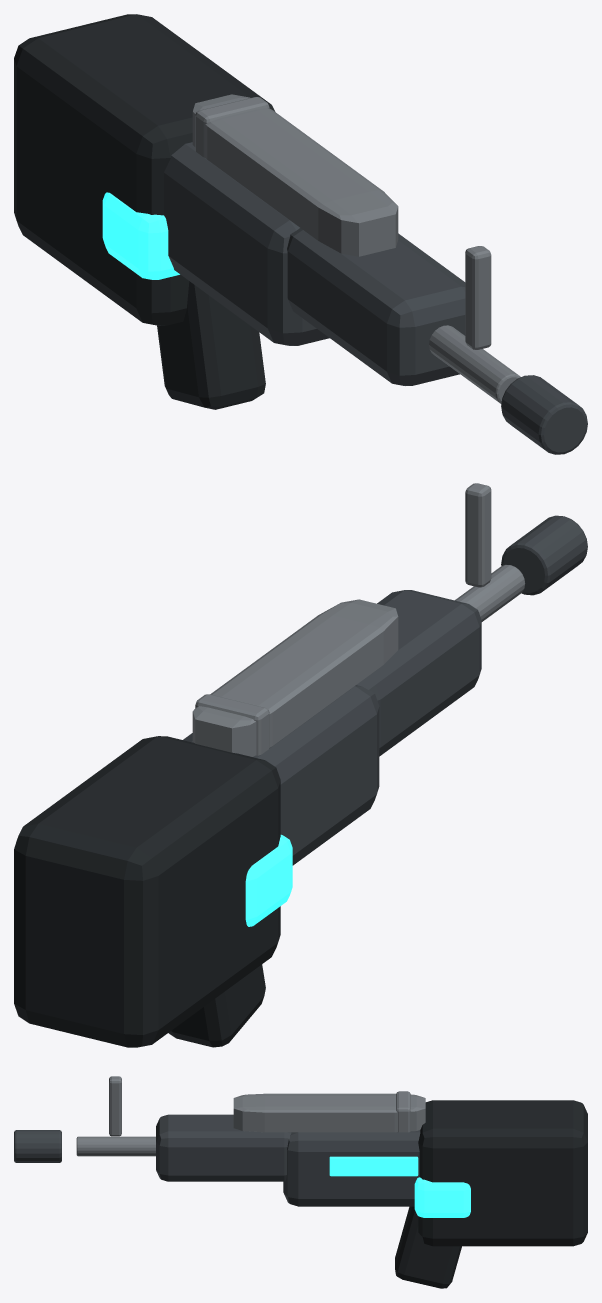
The picture shows the model from 3 angles, top to bottom: view 1: azimuth 30°, elevation 25°; view 2: azimuth 150°, elevation 25°; view 3: azimuth 270°, elevation 25°; orthographic projection. The views are drawn at different scales.
Parts seen in each view (by area): view 1: Bullpup stock, Upper handguard.005, Receiver.005, Magazine.005, Pistol grip.005, Muzzle brake.005, Thumb opening, Barrel.005, Front sight.003, Rear sight.003; view 2: Bullpup stock, Magazine.005, Receiver.005, Upper handguard.005, Muzzle brake.005, Pistol grip.005, Thumb opening, Front sight.003, Barrel.005, Rear sight.003; view 3: Bullpup stock, Receiver.005, Upper handguard.005, Magazine.005, Pistol grip.005, Thumb opening, Aurora serial plate.005, Barrel.005, Muzzle brake.005, Front sight.003, Rear sight.003.
Part boxes in pixels (box(x1,y1,x2,y2)): Bullpup stock: box(14, 14, 275, 325); Upper handguard.005: box(287, 228, 465, 385); Receiver.005: box(164, 142, 329, 345); Magazine.005: box(192, 94, 398, 256); Pistol grip.005: box(157, 281, 265, 409); Muzzle brake.005: box(501, 375, 587, 454); Thumb opening: box(102, 192, 179, 279); Barrel.005: box(429, 325, 520, 403); Front sight.003: box(465, 246, 491, 349); Rear sight.003: box(195, 97, 269, 157); Bullpup stock: box(14, 736, 280, 1047); Magazine.005: box(192, 599, 398, 756); Receiver.005: box(183, 685, 379, 865); Upper handguard.005: box(356, 590, 481, 756); Muzzle brake.005: box(501, 515, 587, 595); Pistol grip.005: box(168, 964, 265, 1047); Thumb opening: box(245, 834, 292, 926); Front sight.003: box(465, 483, 491, 587); Barrel.005: box(455, 565, 525, 621); Rear sight.003: box(195, 694, 269, 755); Bullpup stock: box(418, 1100, 587, 1246); Receiver.005: box(283, 1130, 420, 1206); Upper handguard.005: box(156, 1114, 291, 1181); Magazine.005: box(233, 1093, 425, 1132); Pistol grip.005: box(395, 1206, 461, 1288); Thumb opening: box(414, 1177, 470, 1217); Aurora serial plate.005: box(329, 1156, 418, 1176); Barrel.005: box(76, 1136, 155, 1156); Muzzle brake.005: box(14, 1130, 61, 1162); Front sight.003: box(109, 1076, 121, 1136); Rear sight.003: box(396, 1091, 410, 1132).
Size of the model in its own units: 0.28 by 0.613 by 1.55.
